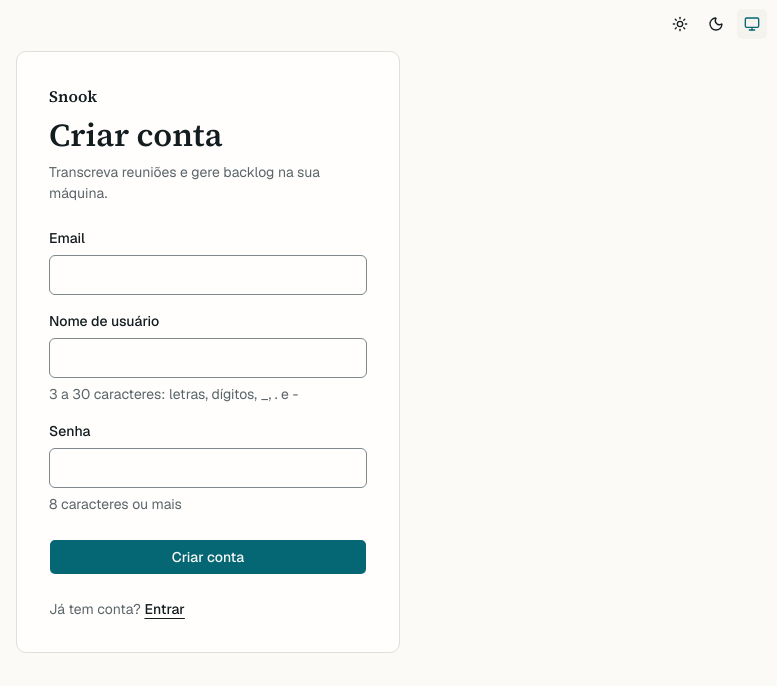
Scenario: mostra o 409 sob o campo de email (auth 25)
Type "ana@x.com" into the field labelled "Email". click: (208, 275)
box: [49, 255, 367, 295]
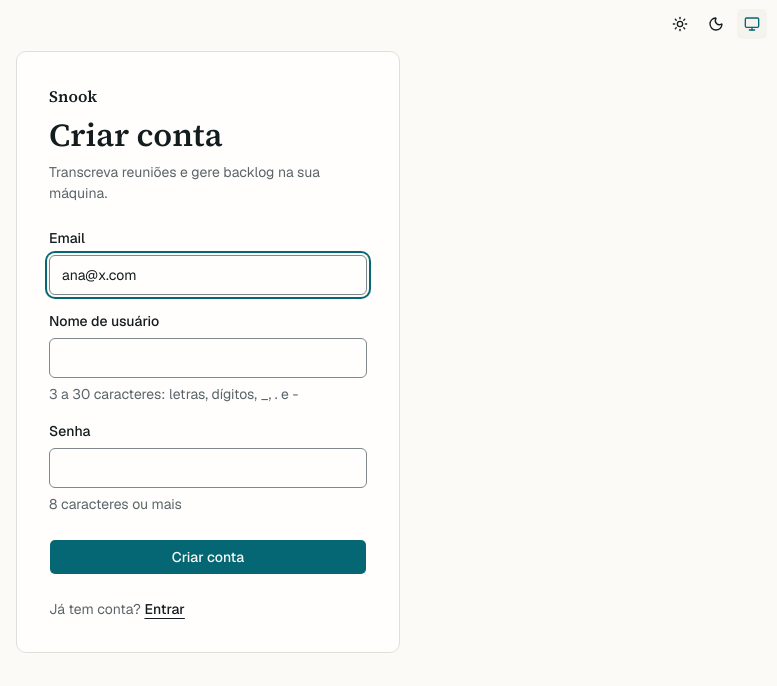
Type "ana" into the field labelled "Nome de usuário". click: (208, 358)
box: [49, 338, 367, 378]
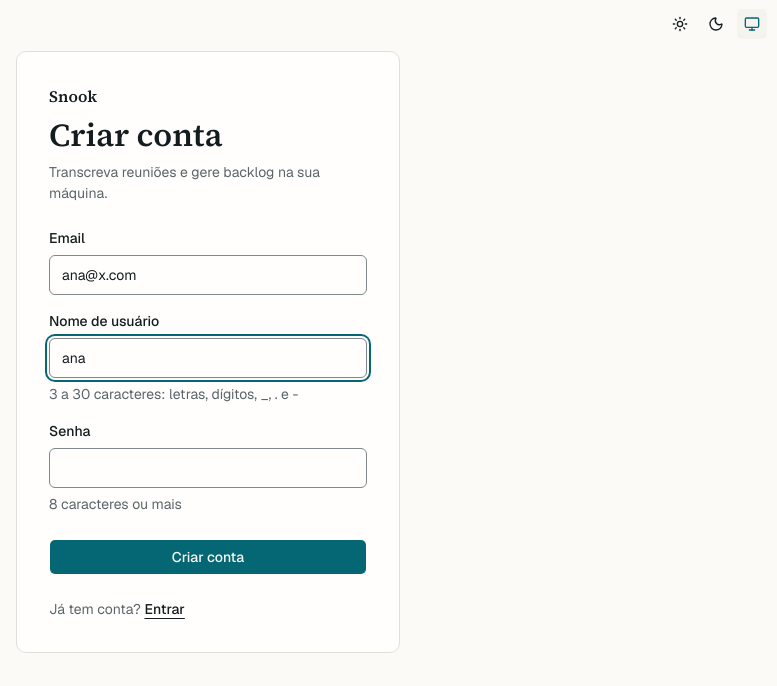
Type "senha-forte-1" into the password field labelled "Senha". click: (208, 468)
box: [49, 448, 367, 488]
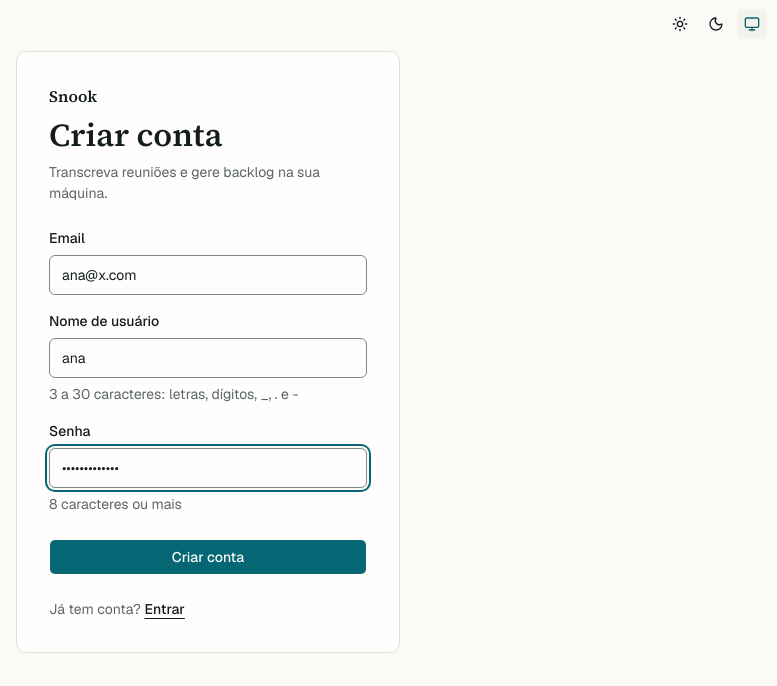
Click the button "Criar conta". click: (208, 557)
box: [49, 539, 367, 575]
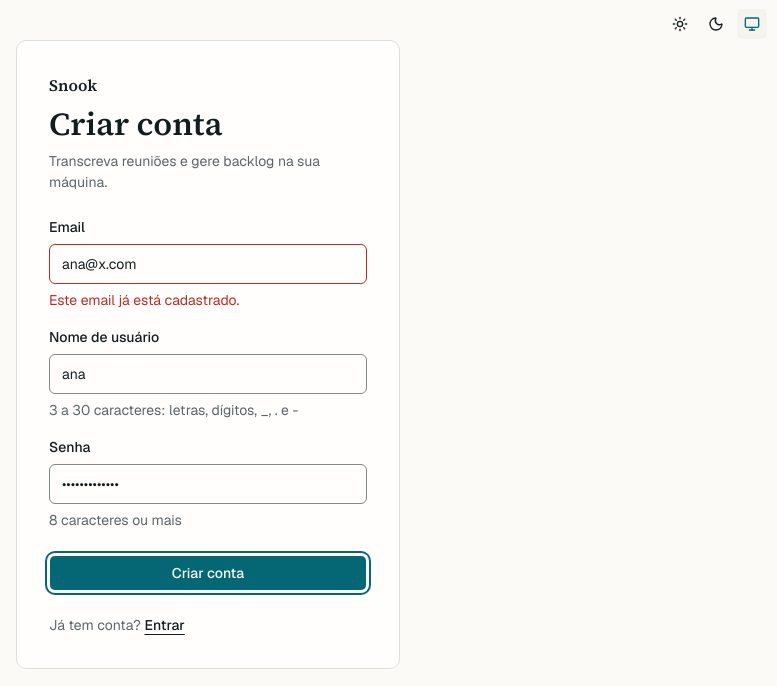
Result: the text "Este email já está cadastrado." is shown at [49, 291, 239, 309]
